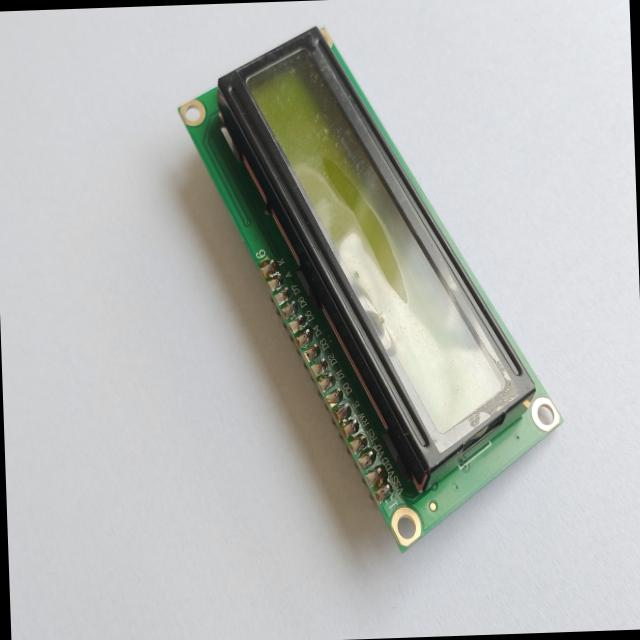lcd: (175, 15, 568, 560)
